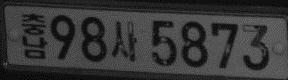3: (241, 24, 269, 70)
5: (149, 20, 177, 66)
7: (210, 22, 239, 69)
8: (181, 21, 208, 68), (80, 16, 107, 62)
9: (49, 13, 75, 59)
사: (111, 21, 138, 62)
충남_V: (20, 12, 47, 58)
